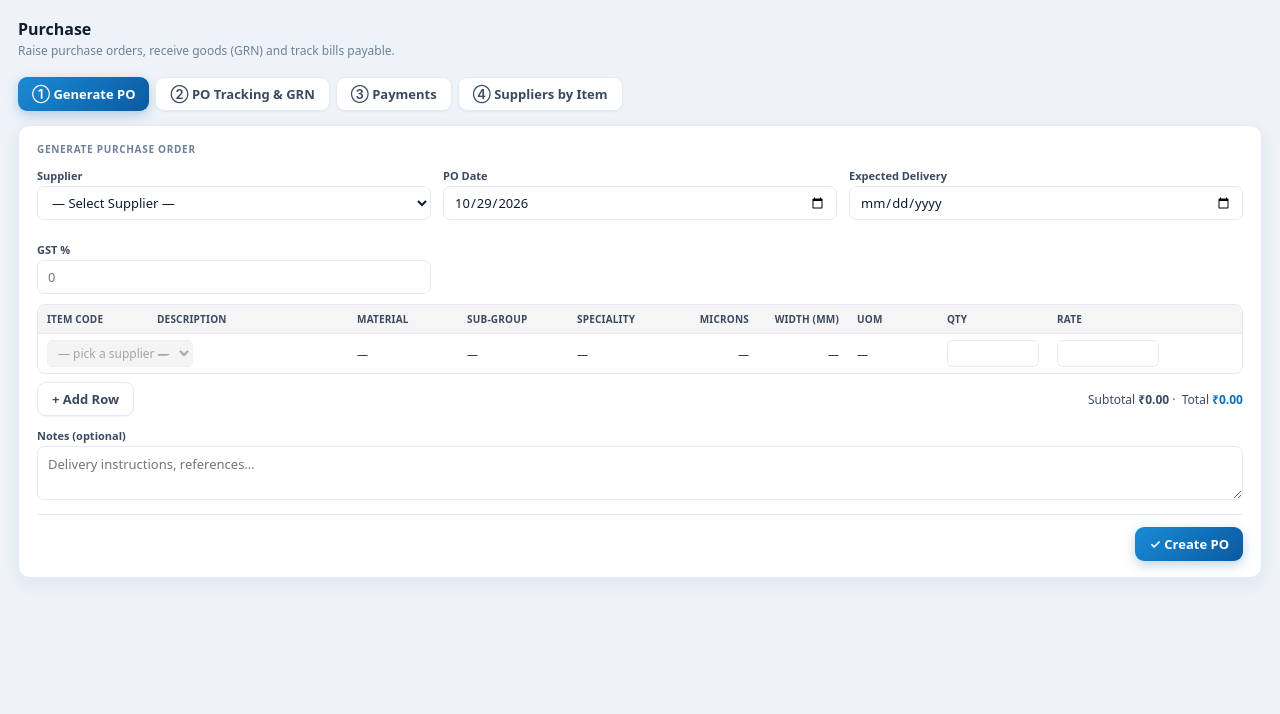
PU2 — the GRN reference is the stores desk’s, never typed › reads the stores receipts afresh when the panel opens — a GRN booked after the page loaded is there
Click the button "② PO Tracking & GRN": [243, 94] box [156, 77, 330, 111]
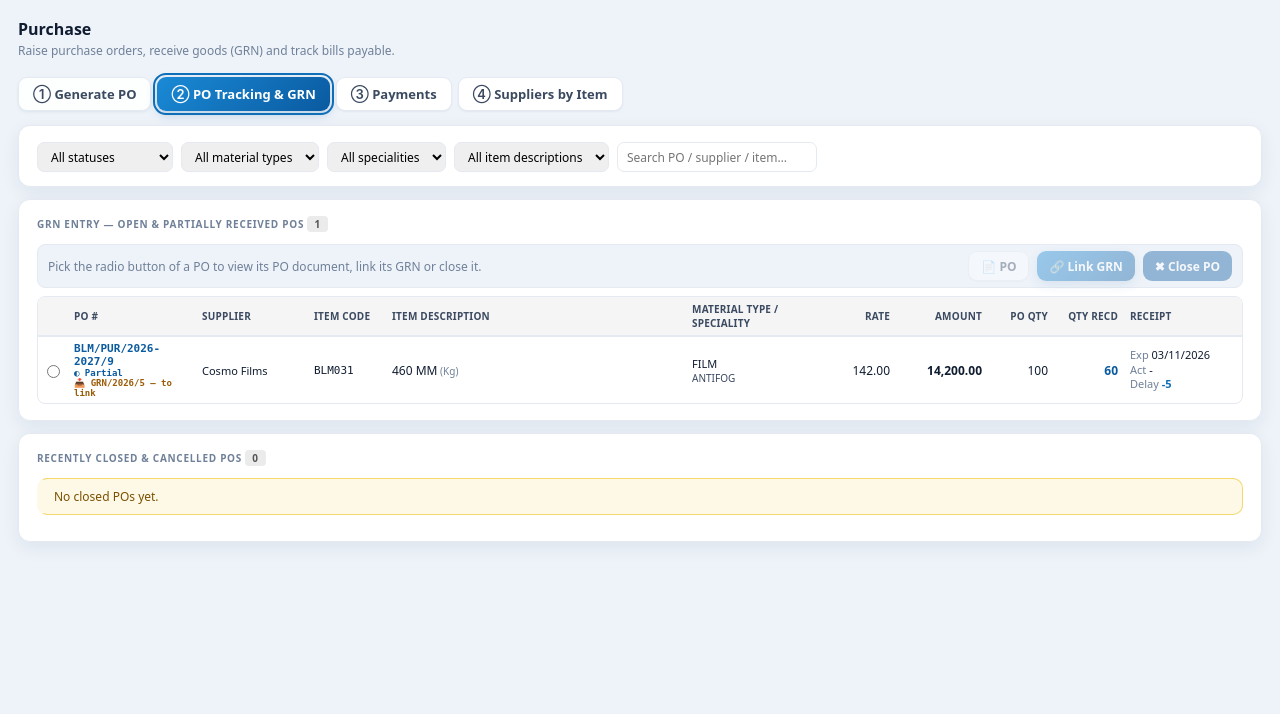
Click the radio button named "Select PO BLM/PUR/2026-2027/9": [53, 371] box [46, 365, 60, 378]
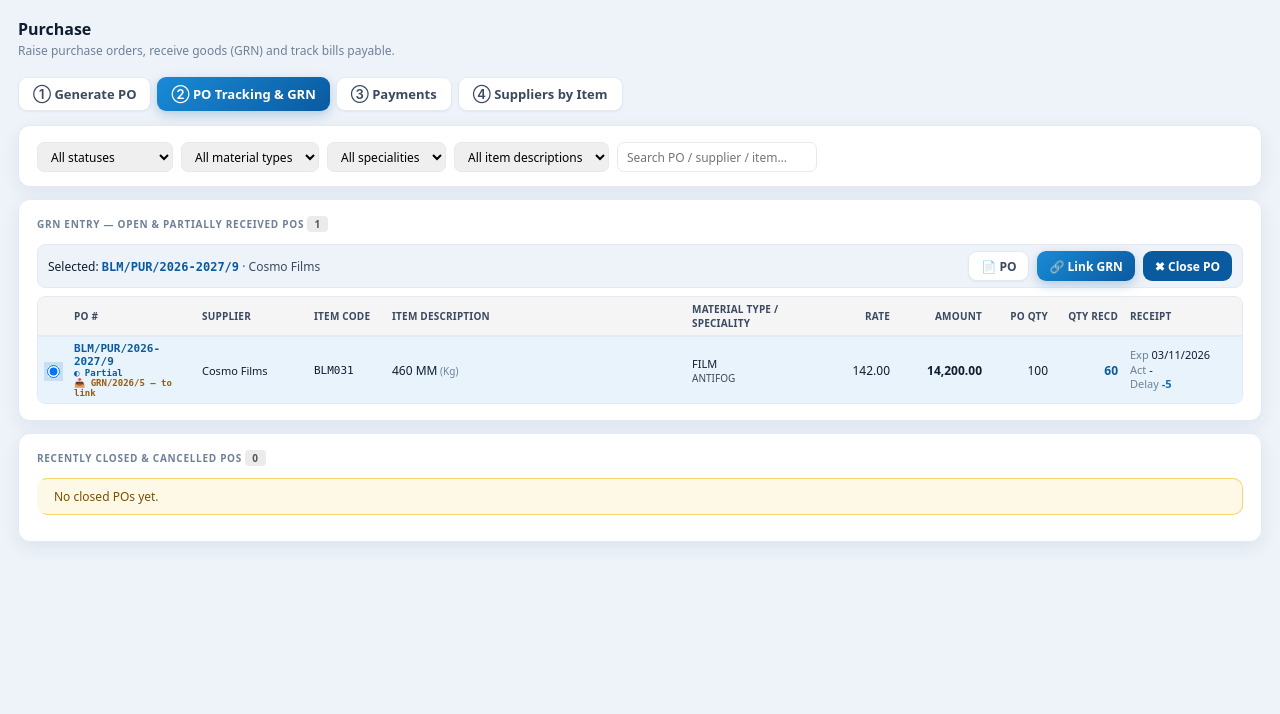
Click the button "🔗 Link GRN": [1086, 266] box [1038, 251, 1135, 281]
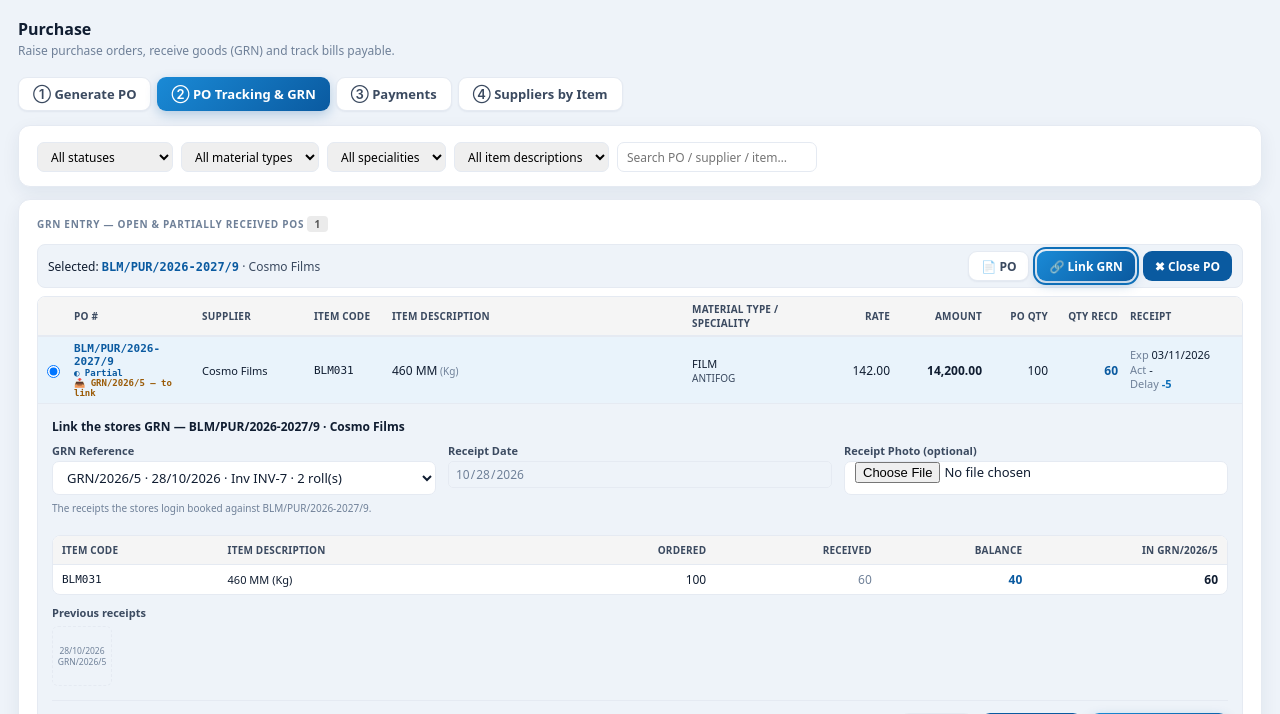
expect the dropdown named "GRN Reference" shows "GRN/2026/5 · 28/10/2026 · Inv INV-7 · 2 roll(s)": met, box [52, 461, 436, 495]
